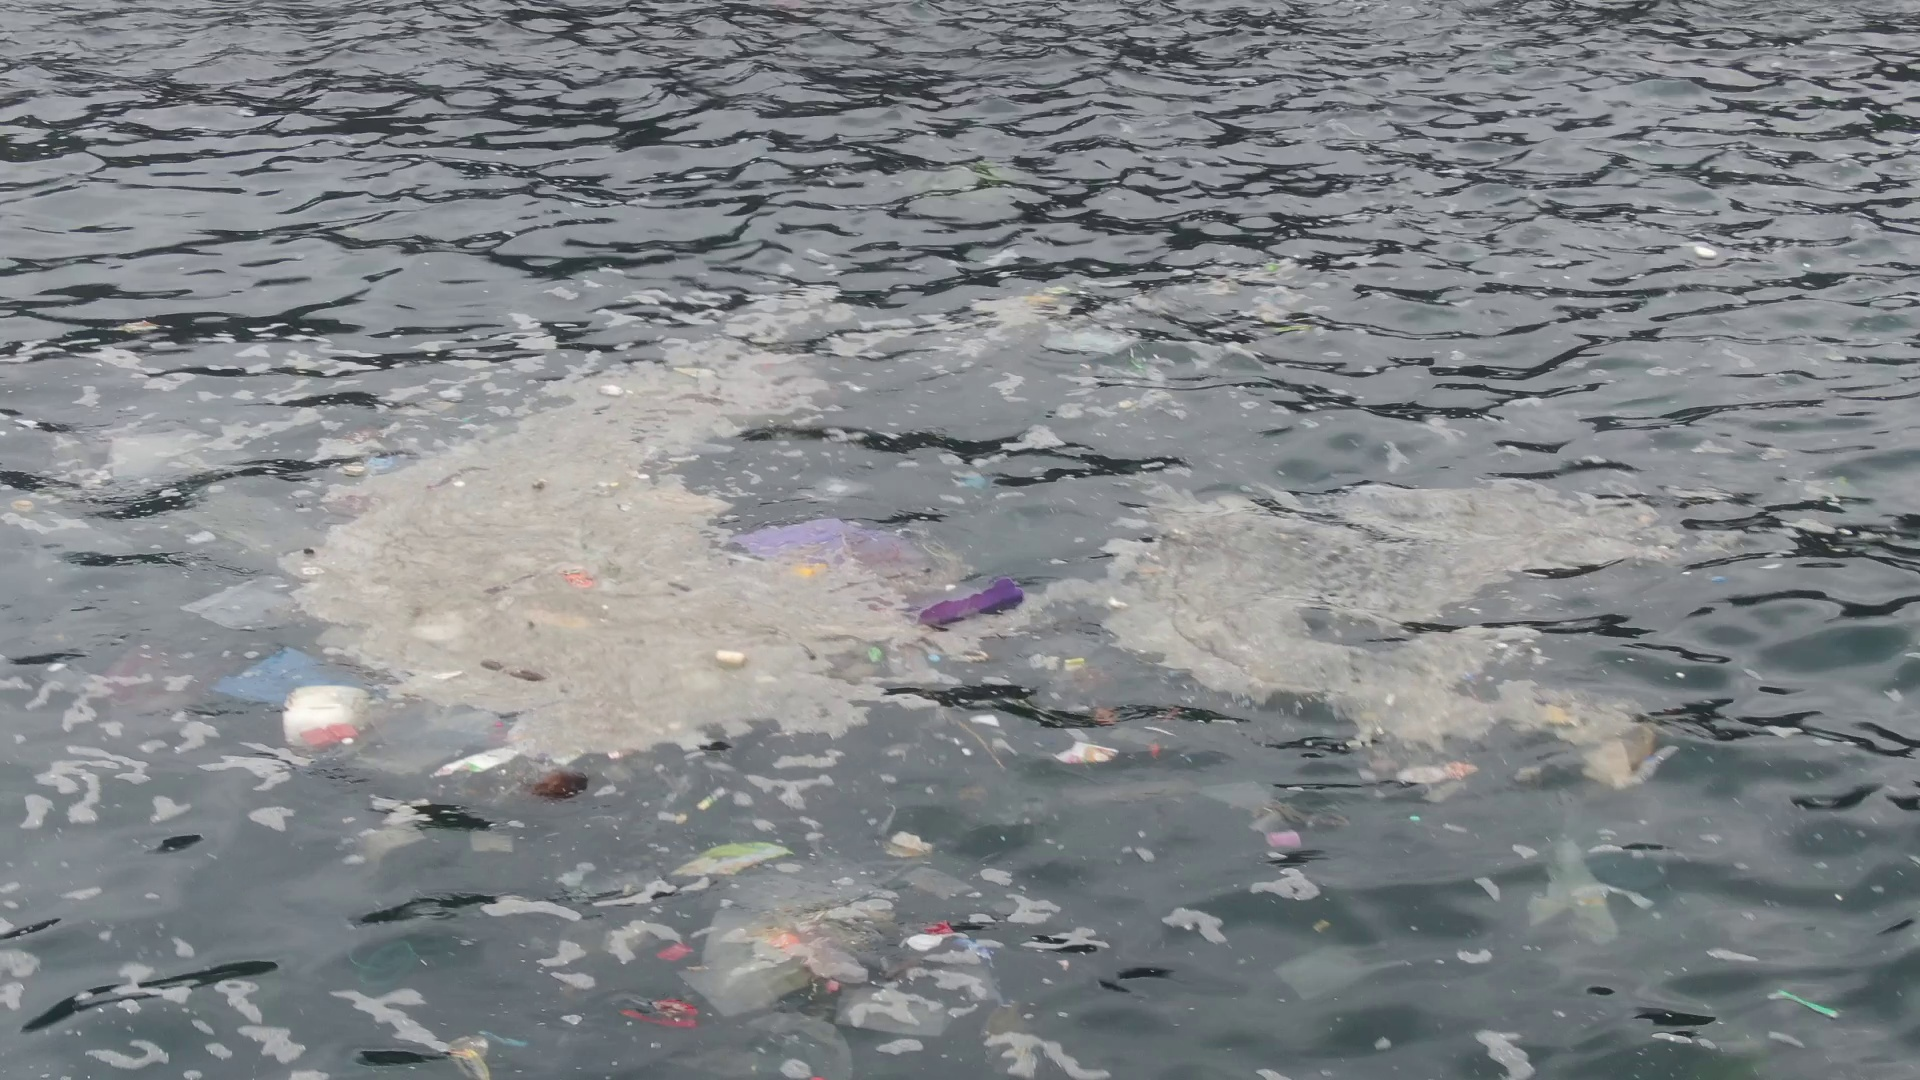garbage: (200, 419, 1125, 802), (1027, 258, 1320, 361), (731, 906, 959, 1000), (1251, 793, 1353, 858), (676, 829, 796, 877), (450, 1029, 534, 1080), (1771, 985, 1851, 1026), (621, 1000, 703, 1031), (1143, 699, 1179, 760), (1428, 754, 1478, 781), (7, 495, 44, 518), (659, 945, 700, 967), (1695, 236, 1718, 266)
